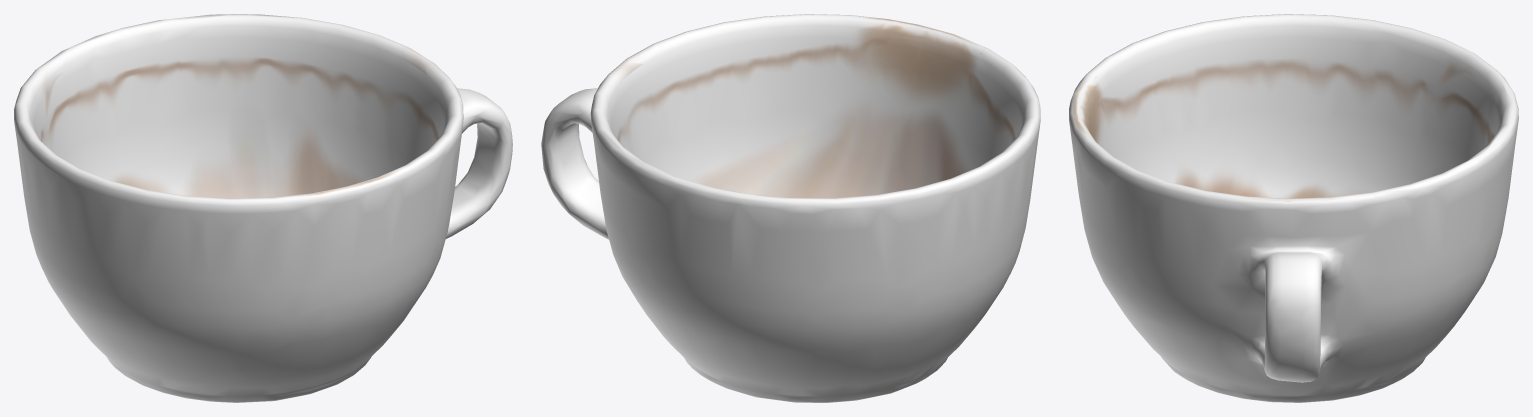
The model's file is Taza.fbx.
3 views of the same model, side by side, from view 1: azimuth 30°, elevation 25°; view 2: azimuth 150°, elevation 25°; view 3: azimuth 270°, elevation 25° (orthographic).
Visible parts, largest first — view 1: Circle; view 2: Circle; view 3: Circle.
Part boxes in pixels (bbox=[...]): Circle: bbox=[14, 14, 512, 402]; Circle: bbox=[541, 14, 1040, 402]; Circle: bbox=[1069, 14, 1518, 402].
Size of the model in its own units: 354 by 179 by 300.
